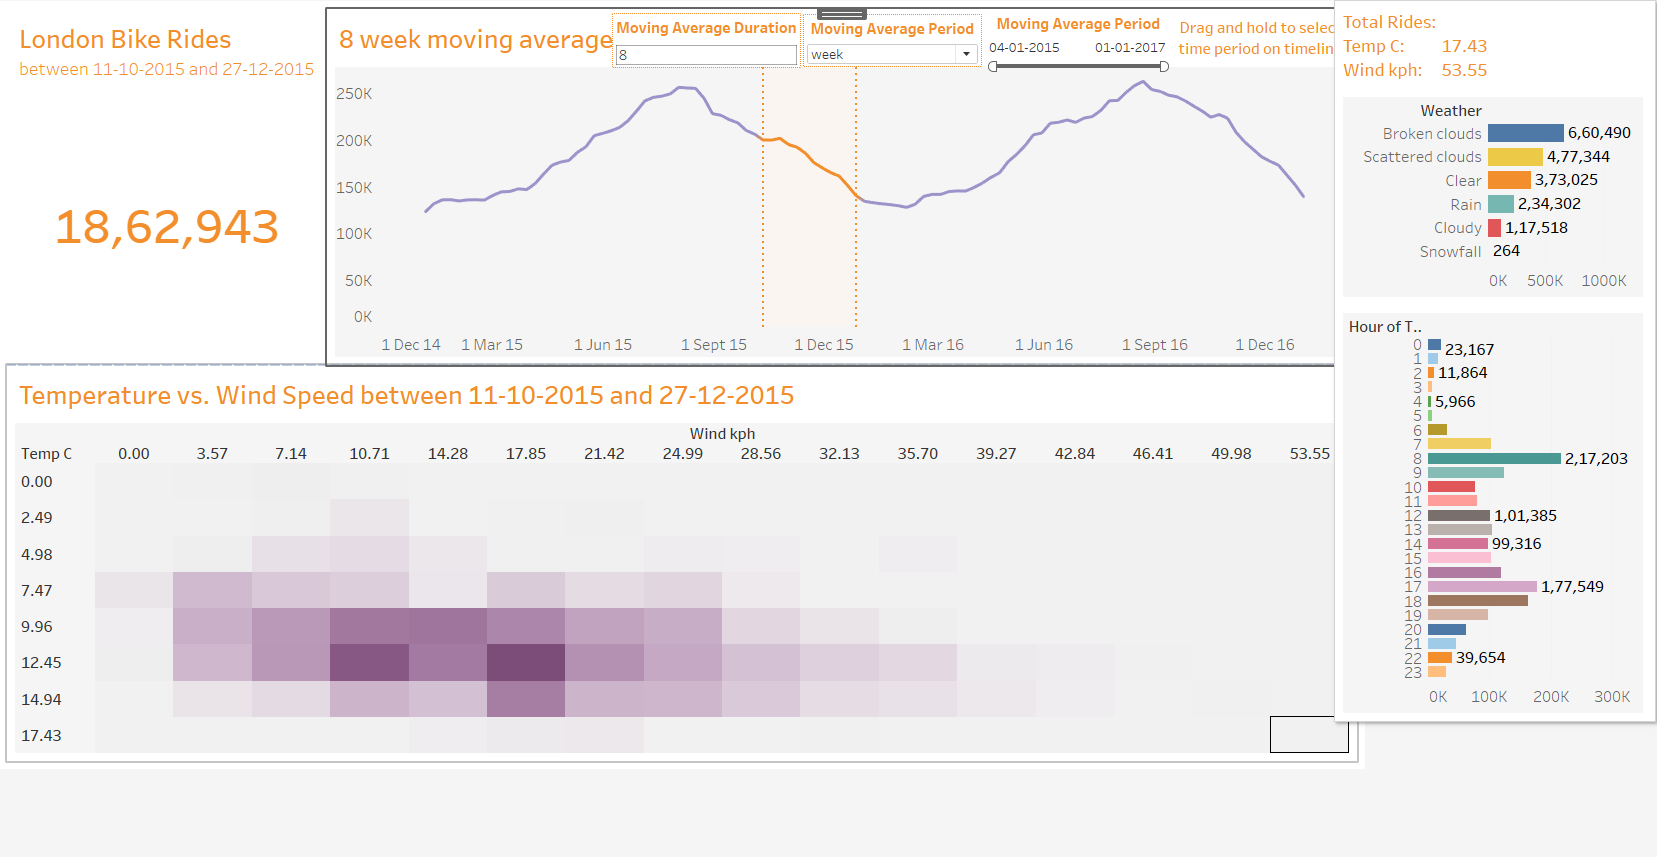

Layout of this report page (visuals, bound fields, positions):
{"tool":"tableau","page":{"name":"Dashboard 1","canvas":[1366,768],"ordinal":0},"visuals":[{"type":"worksheet","title":"TotalRides","mark":"Automatic","box":[8,8,320,356]},{"type":"worksheet","title":"MovingAverage","mark":"Automatic","rows":["Calculation1"],"cols":["Calculation_1283244475842359296"],"box":[328,8,1030,356]},{"type":"parameter","param":"[Parameters].[Parameter 2]","box":[613,12,189,55]},{"type":"filter","title":"MovingAverage","param":"[federated.1ptxyel0rewk3s1025q7z0q2fdgs].[none:Calculation_1283244475842359296:q","box":[985,12,189,61]},{"type":"parameter","param":"[Parameters].[Parameter 1]","box":[804,13,179,53]},{"type":"text","box":[1176,16,171,42]},{"type":"worksheet","title":"Heatmap","mark":"Automatic","rows":["temp real C (bin)"],"cols":["Wind Speed Kph (bin)"],"box":[8,364,1350,396]}]}

Visuals, with their boxes on the page's 1366x768 design canvas (x1, y1, x2, y2). These are canvas units, not pixel positions in the 1657x857 screenshot, which may show the page scaled, cropped or inside an application window:
"TotalRides" worksheet: 8 8 328 364
"MovingAverage" worksheet: 328 8 1358 364
parameter: 613 12 802 67
"MovingAverage" filter: 985 12 1174 73
parameter: 804 13 983 66
text: 1176 16 1347 58
"Heatmap" worksheet: 8 364 1358 760
